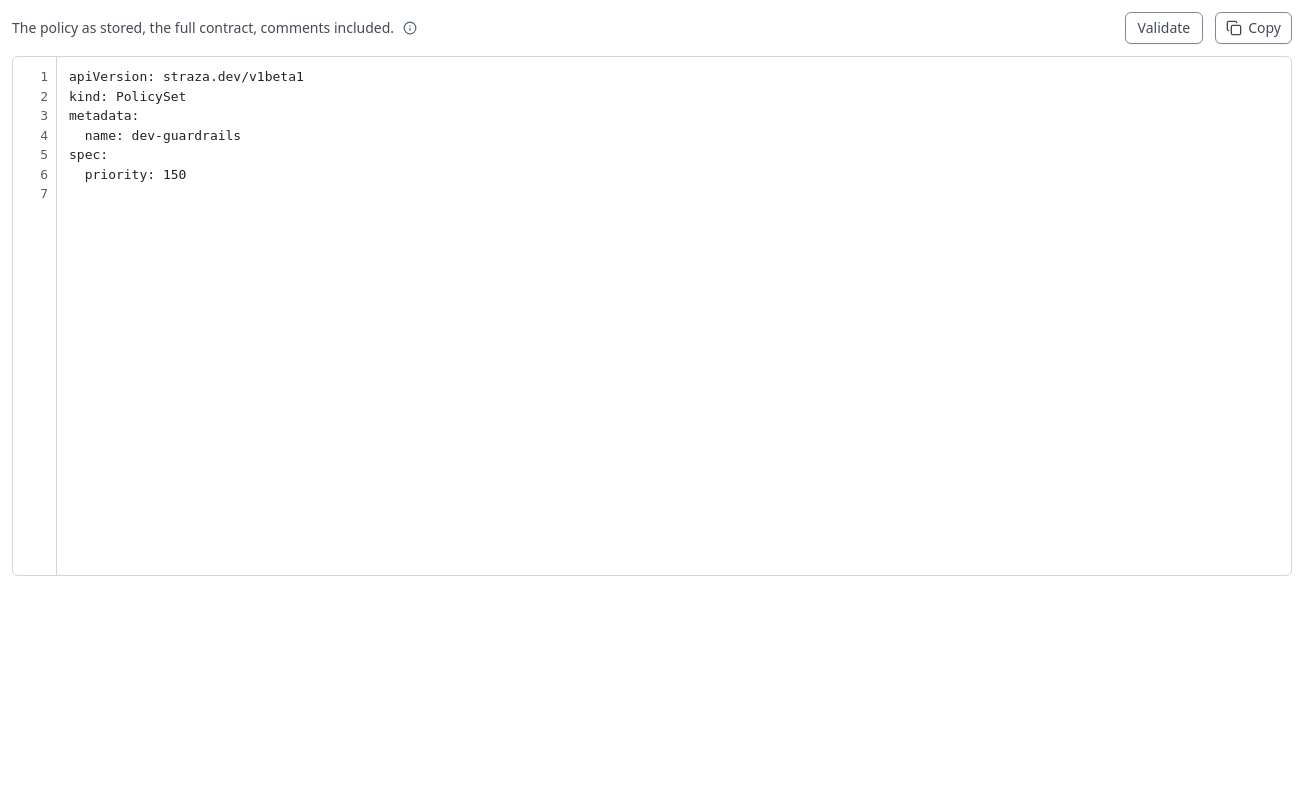
Test case: the YAML tab › prints the server's own sentence and marks the line it names
Click the button "Validate" at (1164, 28), box [1125,12,1203,44]
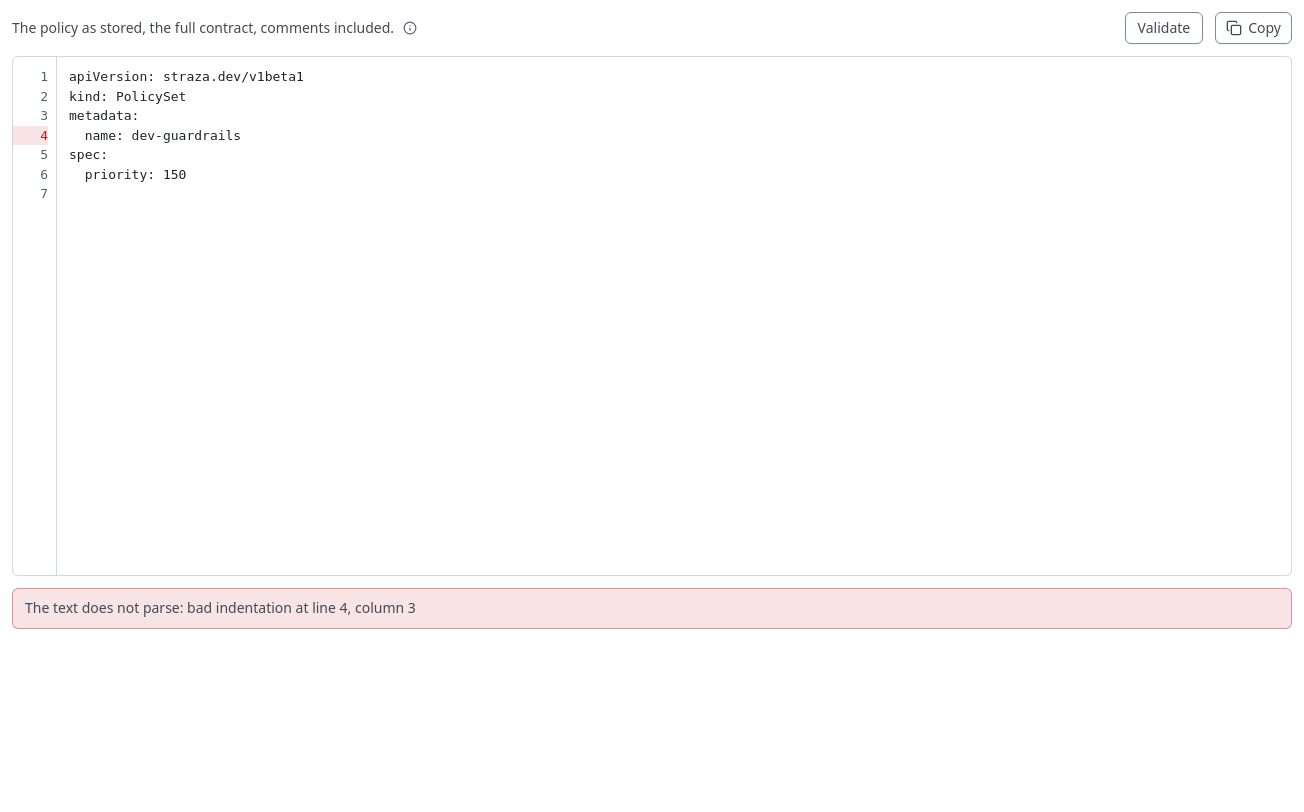
Result: the message "The text does not parse: bad indentation at line 4, column 3" is shown at [12,588,1292,629]
